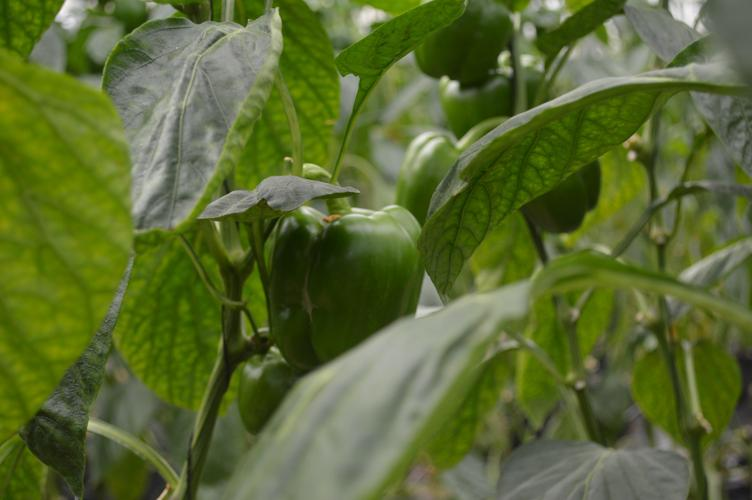BellPepper: (260, 195, 431, 373), (387, 128, 471, 235), (519, 148, 609, 242), (409, 4, 505, 90), (421, 71, 549, 134), (226, 349, 297, 431)
